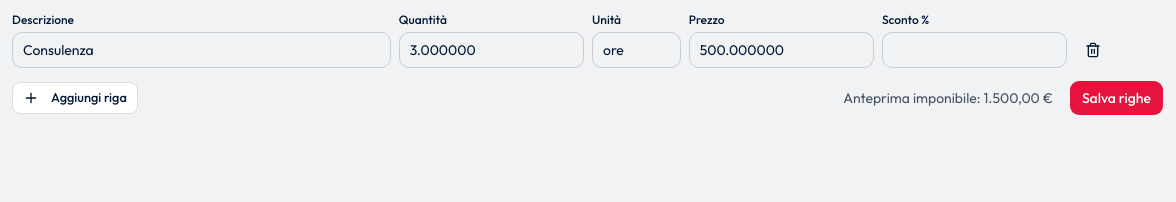
InvoiceLinesEditor › adds and removes rows
Click the button "Aggiungi riga" at [75, 98], box [12,82,138,114]
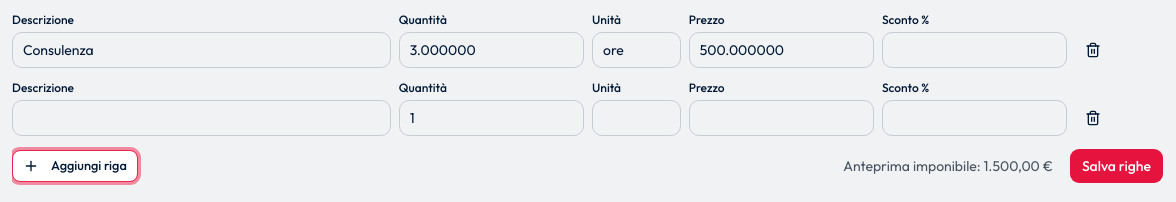
Expected: the number of fields labelled "Descrizione" is 2, [12,32,391,68]; [12,100,391,136]
Click the button named "rimuovi riga" at [1093, 118], box [1075,100,1111,136]
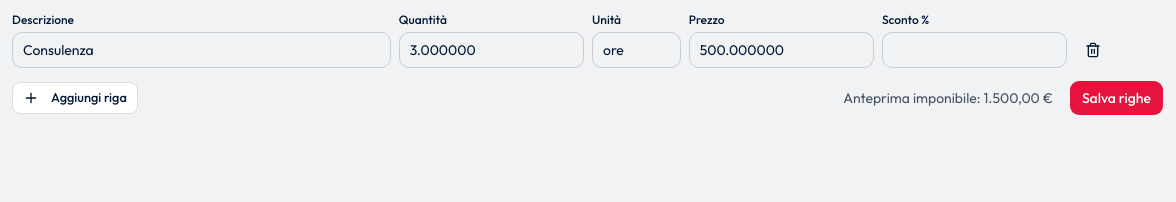
Expected: the number of fields labelled "Descrizione" is 1, [12,32,391,68]
